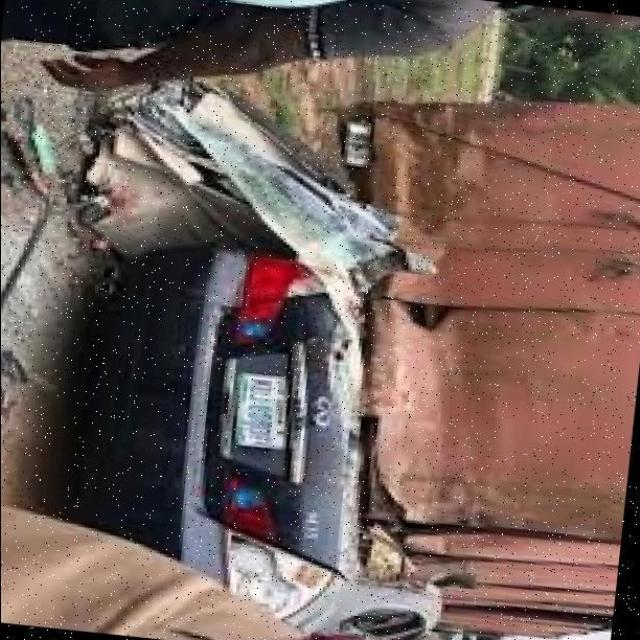accident: (83, 65, 566, 640)
